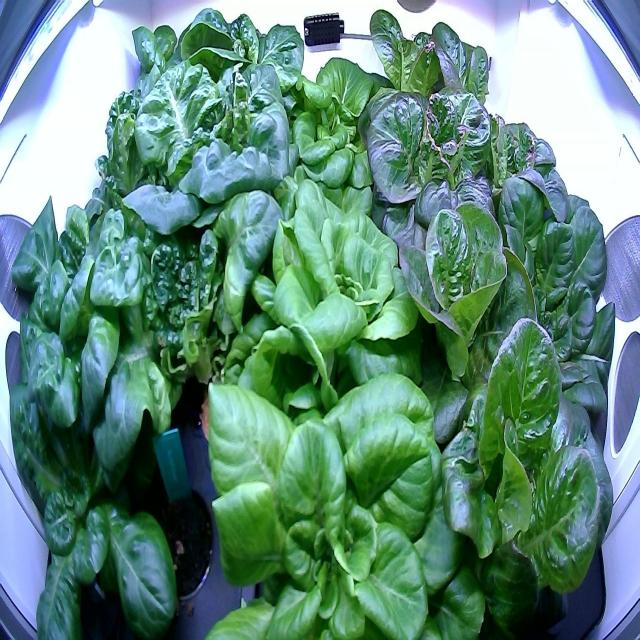Ready: (195, 351, 465, 637), (427, 310, 618, 638), (2, 342, 190, 640), (454, 154, 622, 467), (115, 41, 302, 292), (240, 175, 436, 407), (6, 171, 169, 437), (386, 186, 540, 456), (358, 66, 503, 296), (444, 89, 570, 304), (162, 0, 310, 152), (281, 45, 405, 199), (350, 1, 447, 165), (423, 17, 502, 181)
young: (124, 217, 235, 444)
